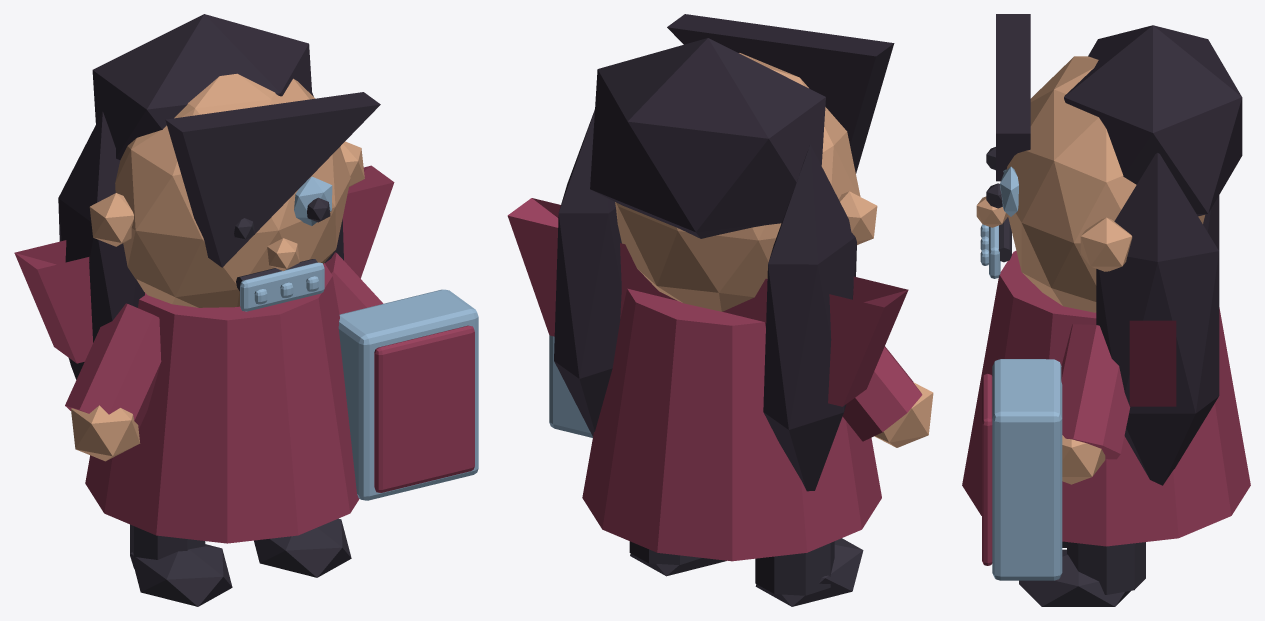
File: bella-vampire-reader.glb
The picture shows the model from 3 angles, left to right: view 1: azimuth 30°, elevation 25°; view 2: azimuth 150°, elevation 25°; view 3: azimuth 270°, elevation 25°; orthographic projection. The views are drawn at different scales.
Visible parts, largest first — view 1: Costume torso.005, Hair cap.005, Head.005, Eye white.004, Boot leg.004; view 2: Hair cap.005, Costume torso.005, Head.005, Boot leg.004, Eye white.004; view 3: Hair cap.005, Costume torso.005, Head.005, Eye white.004, Boot leg.004.
Boxes of the visible parts, left/top/right/bottom form: Costume torso.005: left=14, top=165, right=474, bottom=543; Hair cap.005: left=58, top=14, right=380, bottom=379; Head.005: left=71, top=73, right=364, bottom=461; Eye white.004: left=240, top=176, right=478, bottom=500; Boot leg.004: left=130, top=197, right=351, bottom=606; Hair cap.005: left=554, top=14, right=894, bottom=491; Costume torso.005: left=507, top=198, right=922, bottom=561; Head.005: left=615, top=53, right=933, bottom=447; Boot leg.004: left=629, top=538, right=863, bottom=606; Eye white.004: left=549, top=335, right=592, bottom=437; Hair cap.005: left=996, top=14, right=1242, bottom=485; Costume torso.005: left=962, top=251, right=1250, bottom=565; Head.005: left=976, top=56, right=1204, bottom=484; Eye white.004: left=980, top=166, right=1062, bottom=580; Boot leg.004: left=986, top=147, right=1145, bottom=606.
Size of the model in its own units: 0.019 by 0.0261 by 0.0124.
